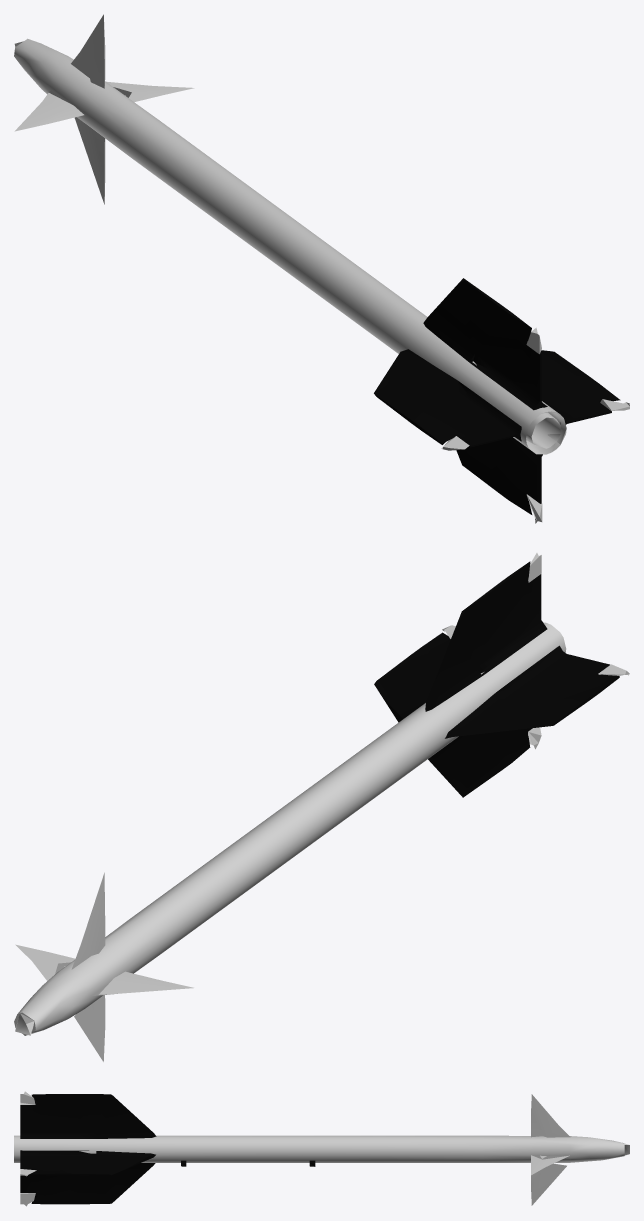
The model's file is missile.obj.
The picture shows the model from 3 angles, top to bottom: view 1: azimuth 30°, elevation 25°; view 2: azimuth 150°, elevation 25°; view 3: azimuth 270°, elevation 25°; orthographic projection. The views are drawn at different scales.
Visible parts, largest first — view 1: support02; view 2: support02; view 3: support02.
Boxes of the visible parts, x1,y1,x2,y2 form: support02: [14, 14, 629, 523]; support02: [14, 553, 629, 1061]; support02: [14, 1091, 629, 1206].
Size of the model in its own units: 0.5175 by 0.5197 by 2.52.
Materials: 1 (1 with a texture image).
